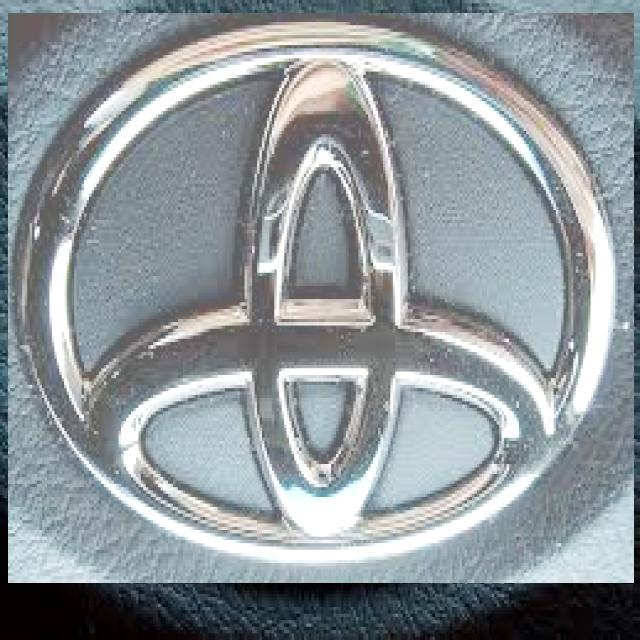toyota: (8, 13, 634, 583)
